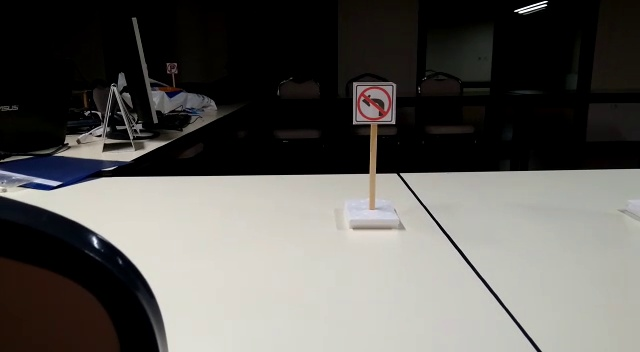sola_donulmez: (349, 81, 397, 129)
